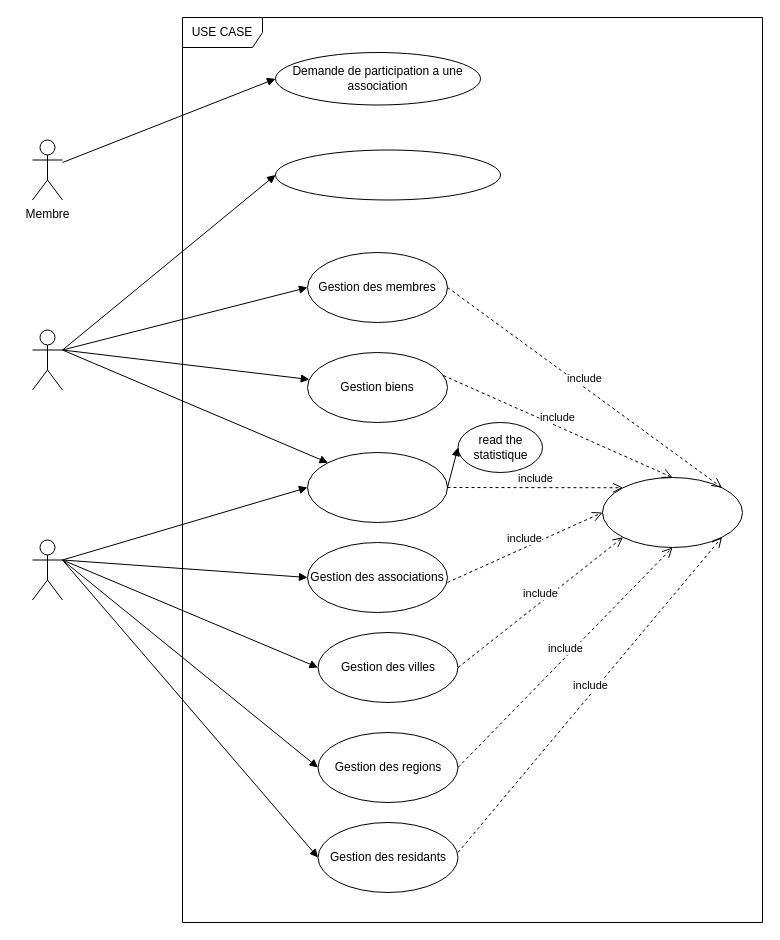
The diagram is 780 pixels wide and 940 high, and some of its shapes have lost their labels. Here are the shapes that lost their labels. From the top down, the centre of each, then its label:
At (x=387, y=174): "Demande de participer a l'app en tanque association".
At (x=47, y=359): "Association".
At (x=377, y=487): "statistique des regions qui a recu l'aide et qui pas".
At (x=672, y=512): "Connection".
At (x=47, y=569): "Admin".
